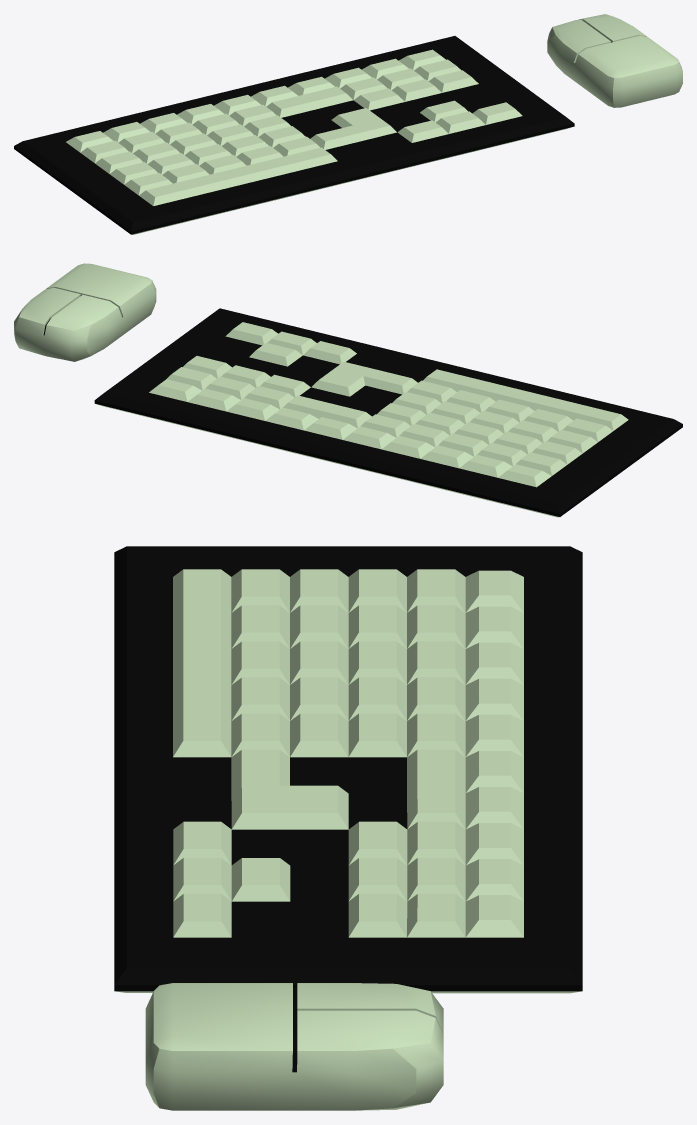
The model's file is Keyboard&MouseV3.FBX.
The picture shows the model from 3 angles, top to bottom: view 1: azimuth 30°, elevation 25°; view 2: azimuth 150°, elevation 25°; view 3: azimuth 270°, elevation 25°; orthographic projection. The views are drawn at different scales.
Visible parts, largest first — view 1: Box104, ChamferBox001; view 2: Box104, ChamferBox001; view 3: Box104, ChamferBox001.
Part boxes in pixels (x1,y1,x2,y2): Box104: [14, 36, 574, 234]; ChamferBox001: [547, 14, 682, 107]; Box104: [94, 308, 682, 517]; ChamferBox001: [14, 263, 156, 361]; Box104: [114, 546, 582, 993]; ChamferBox001: [145, 983, 443, 1110].
Bounding box in the file's own units: 2813 × 176 × 1009.
